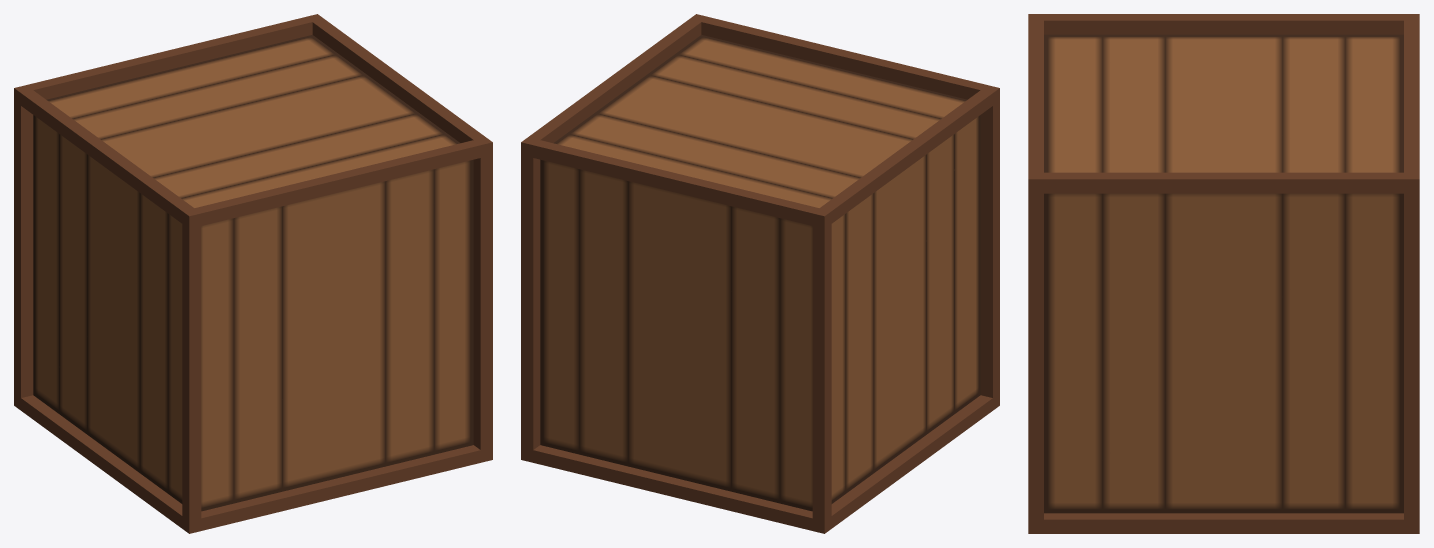
File: LargeObject_Large_Crate.fbx
The picture shows the model from 3 angles, left to right: view 1: azimuth 30°, elevation 25°; view 2: azimuth 150°, elevation 25°; view 3: azimuth 270°, elevation 25°; orthographic projection. The views are drawn at different scales.
Visible parts, largest first — view 1: Large_Crate; view 2: Large_Crate; view 3: Large_Crate.
Part boxes in pixels (x1,y1,x2,y2): Large_Crate: (14,14,492,533); Large_Crate: (521,14,999,533); Large_Crate: (1028,14,1419,533).
Bounding box in the file's own units: 50 × 50 × 50.
